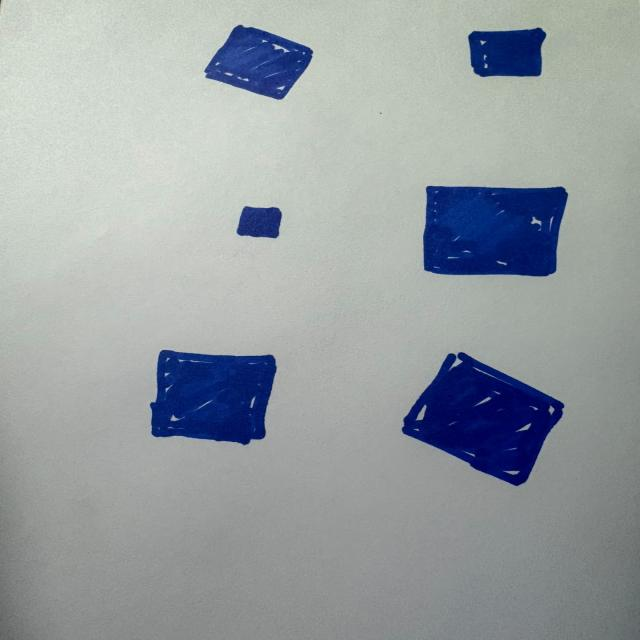Square: (402, 353, 563, 485), (422, 186, 567, 277), (150, 350, 276, 444), (205, 25, 312, 99), (469, 28, 546, 78), (235, 205, 283, 242)
